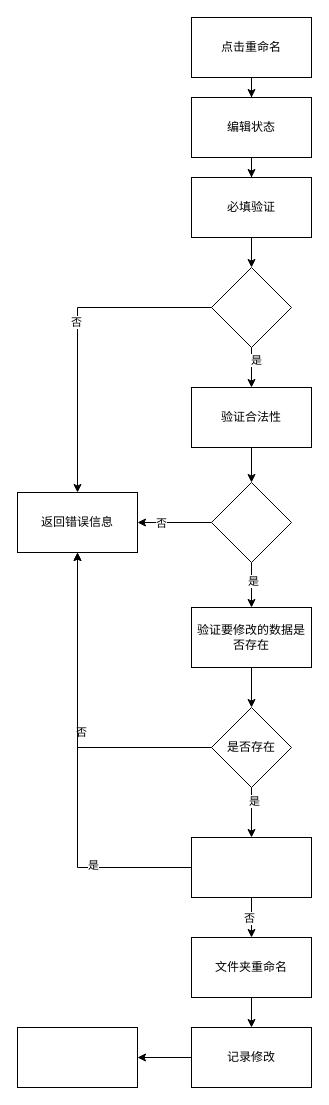
This 329x1105 diagram has some shape labels left out. Here are the shapes that lost their labels. From the top down, the centre of each, then its label:
the point at 251,307: 是否填写
the point at 251,522: 是否合法
the point at 251,867: 验证名称是否存在
the point at 77,1057: 成功
